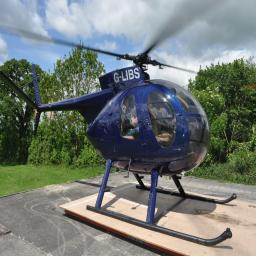helicopter: (10, 1, 239, 245)
